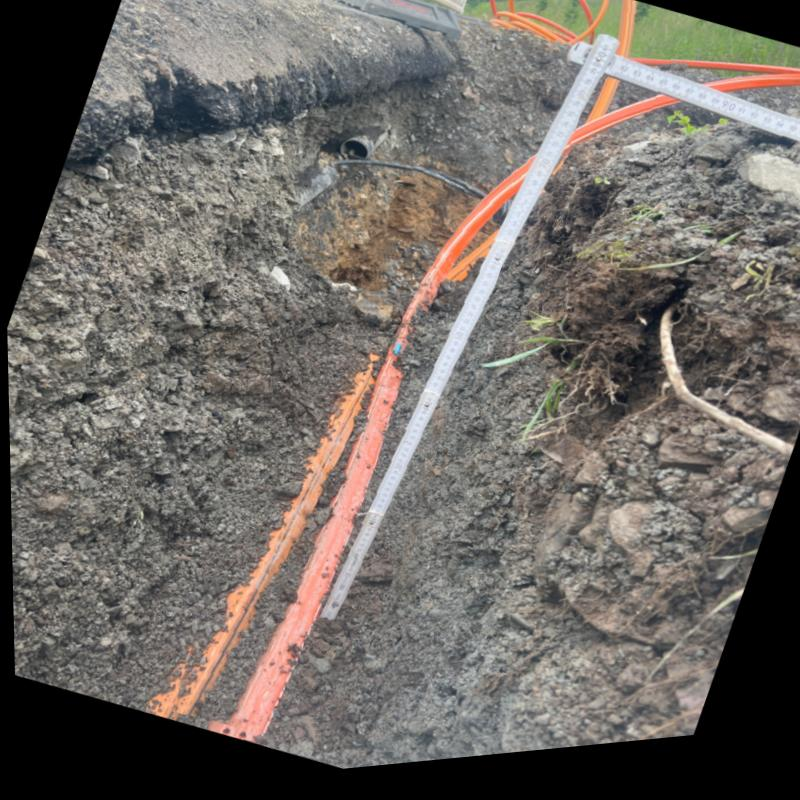Orang-Speednetrohrchen: (228, 169, 528, 750), (165, 353, 380, 716), (568, 65, 800, 158)
